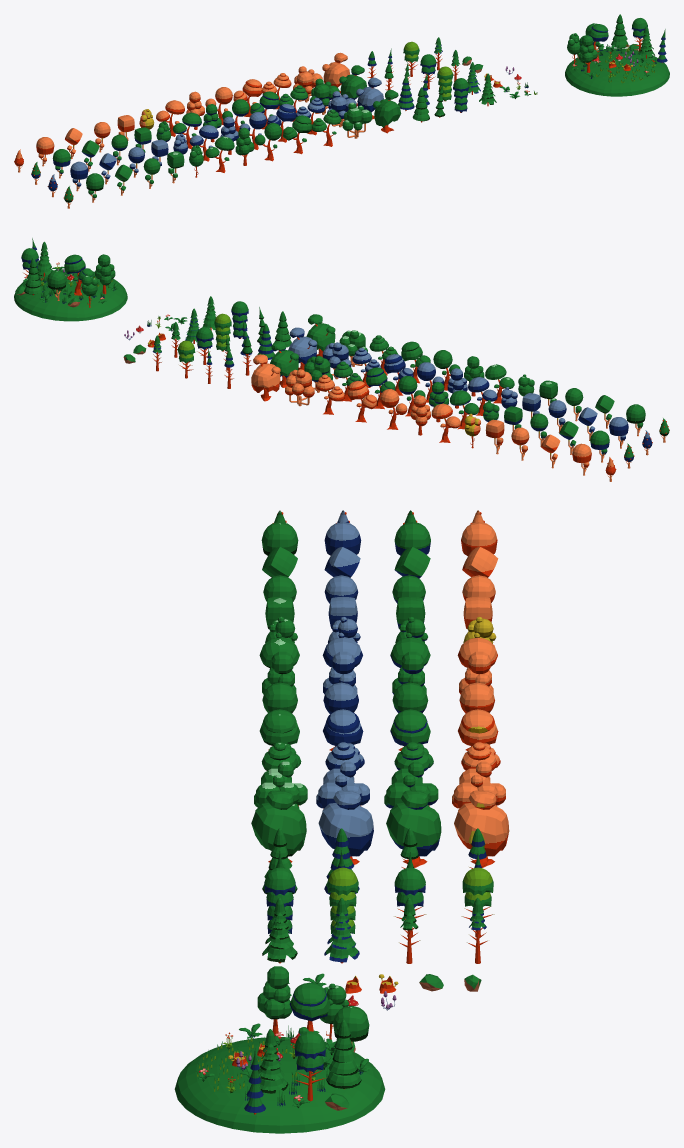
The model's file is natureassets.glb.
The picture shows the model from 3 angles, top to bottom: view 1: azimuth 30°, elevation 25°; view 2: azimuth 150°, elevation 25°; view 3: azimuth 270°, elevation 25°; orthographic projection. The views are drawn at different scales.
Visible parts, largest first — view 1: Tree.078, Tree.060, Tree.048, Tree.062, Tree.061, Tree.063, Tree.038, Tree.065, Tree.005, Tree.051, Tree.006, Tree.050 (+39 smaller); view 2: Tree.078, Tree.063, Tree.051, Tree.062, Tree.061, Tree.060, Tree.041, Tree.083, Tree.031, Tree.025, Tree.040, Tree.068 (+30 smaller); view 3: Tree.078, Tree.063, Tree.062, Tree.061, Tree.060, Tree.082, Tree.035, Tree.043, Tree.042, Tree.050, Tree.083, Tree.049 (+17 smaller).
Part boxes in pixels (box(x1,y1,x2,y2)): Tree.078: box(565, 48, 669, 96); Tree.060: box(373, 90, 401, 133); Tree.048: box(342, 102, 372, 138); Tree.062: box(339, 65, 366, 106); Tree.061: box(356, 77, 383, 119); Tree.063: box(322, 52, 349, 93); Tree.038: box(283, 115, 311, 154); Tree.065: box(312, 109, 341, 146); Tree.005: box(205, 136, 234, 172); Tree.051: box(293, 66, 322, 102); Tree.006: box(254, 123, 281, 161); Tree.050: box(310, 78, 339, 114); Tree.078: box(14, 269, 127, 321); Tree.063: box(251, 354, 280, 401); Tree.051: box(285, 369, 314, 406); Tree.062: box(270, 341, 298, 387); Tree.061: box(288, 327, 317, 370); Tree.060: box(306, 314, 335, 357); Tree.041: box(347, 381, 376, 422); Tree.083: box(64, 254, 93, 295); Tree.031: box(380, 389, 407, 429); Tree.025: box(431, 403, 460, 442); Tree.040: box(366, 367, 395, 409); Tree.068: box(315, 374, 344, 414); Tree.078: box(174, 1037, 385, 1133); Tree.063: box(454, 790, 509, 867); Tree.062: box(386, 790, 441, 867); Tree.061: box(318, 790, 373, 864); Tree.060: box(251, 790, 306, 862); Tree.082: box(257, 966, 291, 1038); Tree.035: box(326, 1019, 361, 1089); Tree.043: box(327, 867, 358, 933); Tree.042: box(264, 867, 295, 933); Tree.050: box(384, 761, 438, 808); Tree.083: box(289, 982, 330, 1034); Tree.049: box(316, 761, 369, 808).
Bounding box in the file's own units: 208 × 15.69 × 50.48.
1 material, 1 textured.
